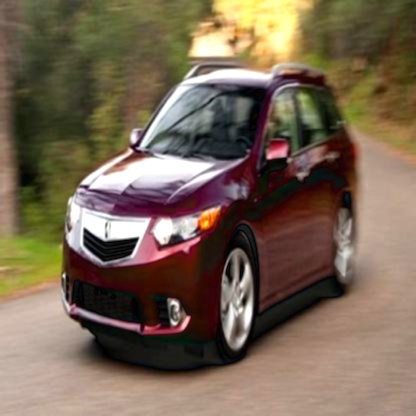Vehicle: (62, 62, 361, 370)
